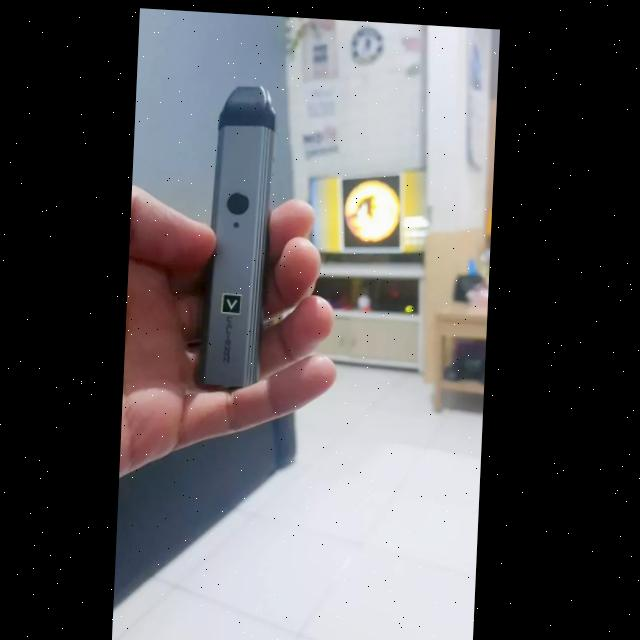vape: (197, 78, 279, 393)
